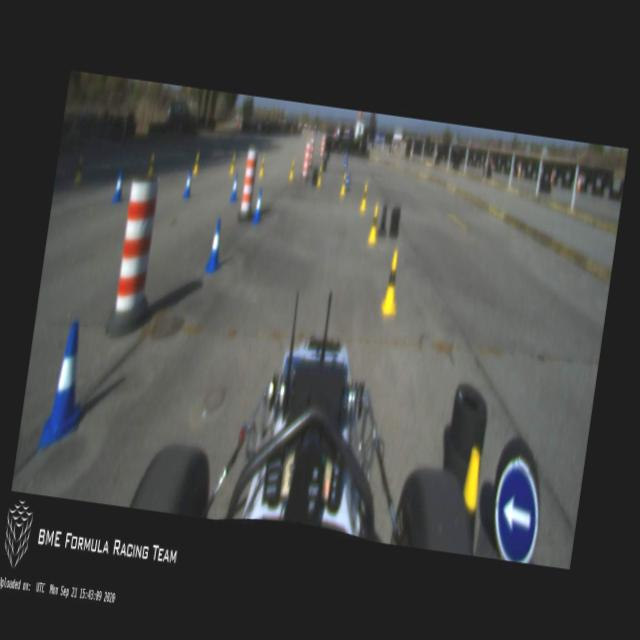blue_cone: (38, 316, 92, 458), (204, 218, 226, 278), (252, 188, 266, 228), (112, 170, 126, 205), (182, 169, 195, 201), (230, 172, 242, 205)
yellow_cone: (380, 249, 404, 318), (367, 204, 381, 246), (360, 182, 370, 212), (75, 156, 86, 183), (339, 172, 348, 198), (147, 154, 156, 178), (316, 165, 324, 188), (192, 154, 200, 176), (258, 156, 266, 178), (288, 159, 296, 181), (229, 156, 236, 174)
